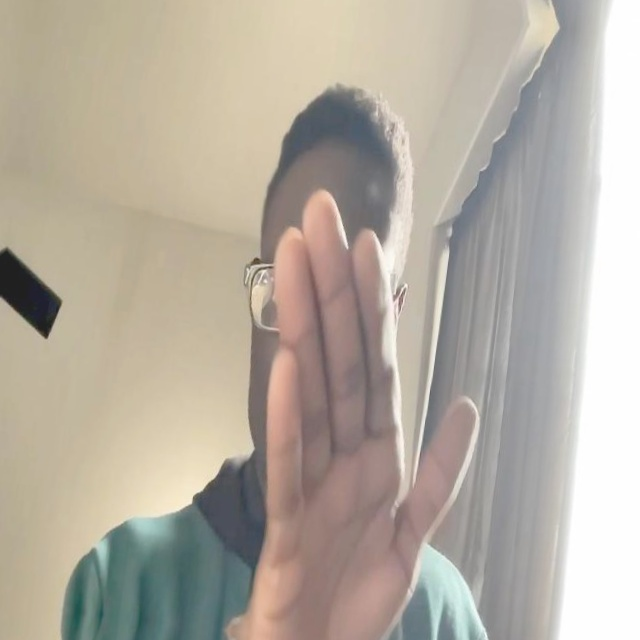Paper: (228, 181, 506, 640)
